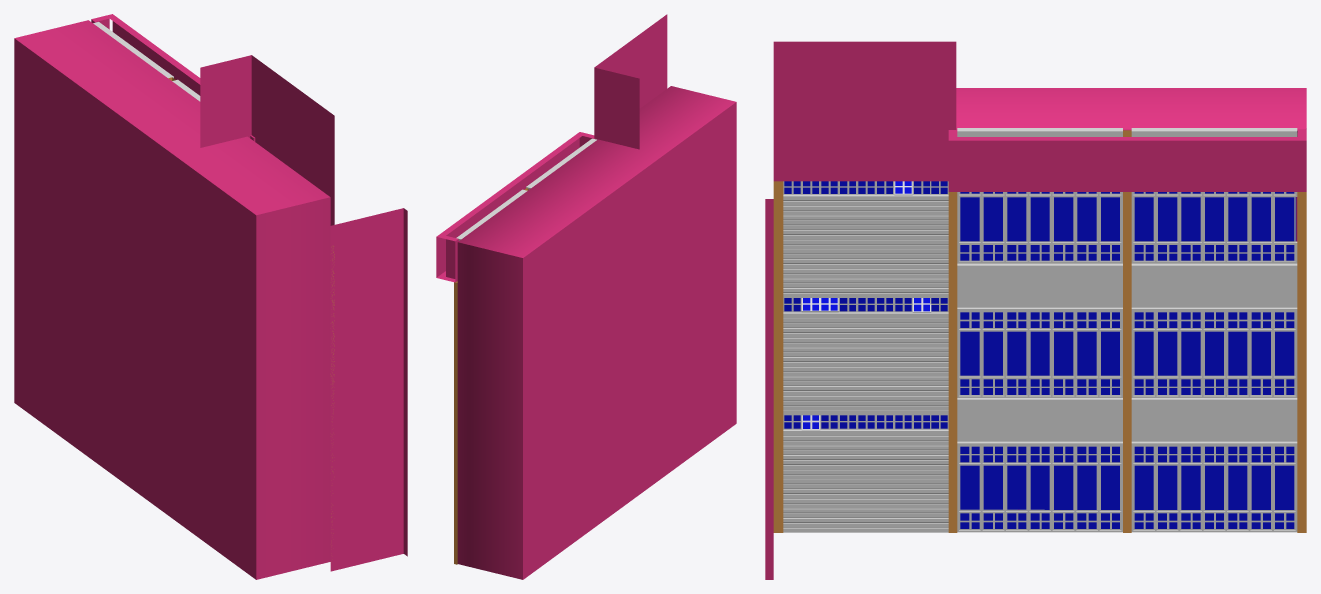
Rendered from frente_2.fbx.
The picture shows the model from 3 angles, left to right: view 1: azimuth 30°, elevation 25°; view 2: azimuth 150°, elevation 25°; view 3: azimuth 270°, elevation 25°; orthographic projection. The views are drawn at different scales.
Parts seen in each view (by area): view 1: Cube.001; view 2: Cube.001; view 3: Cube.001.
Part boxes in pixels (<box>): Cube.001: <box>14,14,407,579</box>; Cube.001: <box>436,14,736,579</box>; Cube.001: <box>765,41,1306,579</box>.
Size of the model in its own units: 624 by 1839 by 1801.
